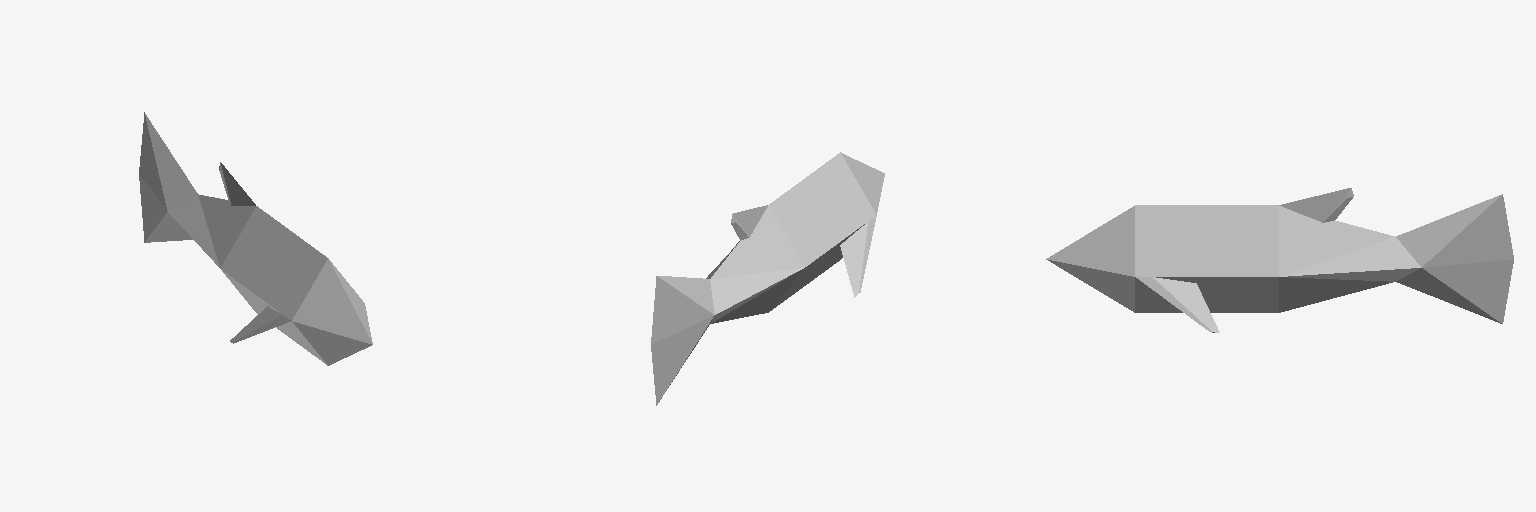
The model's file is fish.obj.
The picture shows the model from 3 angles: view 1: azimuth 30°, elevation 25°; view 2: azimuth 150°, elevation 25°; view 3: azimuth 270°, elevation 25°; orthographic projection.
Visible parts, largest first — view 1: Cylinder; view 2: Cylinder; view 3: Cylinder.
Part boxes in pixels (bbox=[...]): Cylinder: bbox=[139, 112, 372, 365]; Cylinder: bbox=[651, 152, 884, 405]; Cylinder: bbox=[1046, 188, 1513, 332].
Bounding box in the file's own units: 1.12 × 1.27 × 3.94.